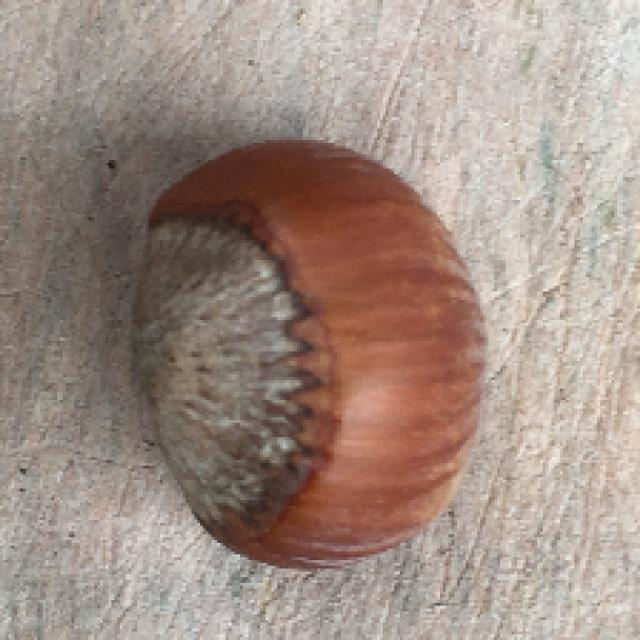qualityHazelnut: (130, 133, 487, 568)
